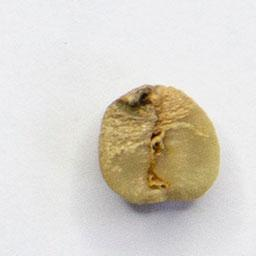defect: (95, 79, 223, 208)
